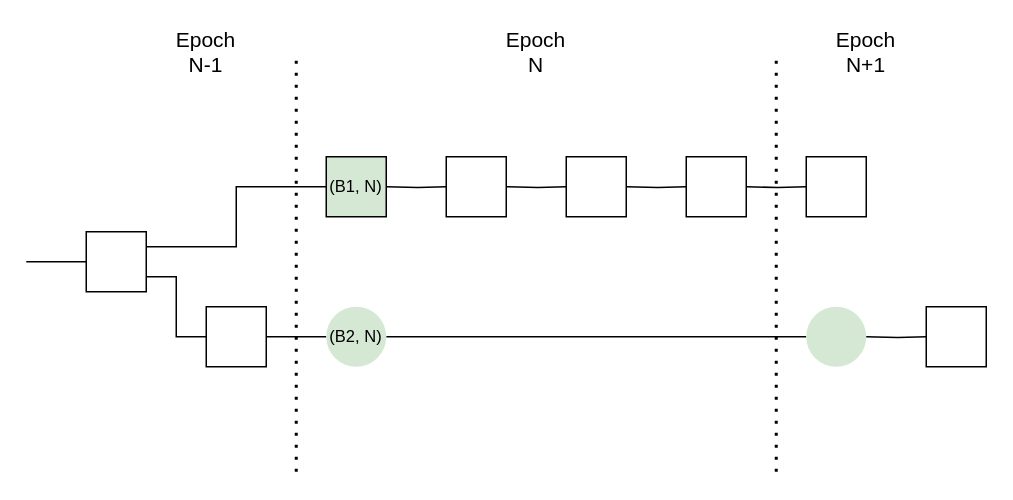
This 1013x500 diagram has some shape labels left out. Each missing label, with the box of its shape:
(B2, N+1): (806, 306, 866, 366)
B2: (205, 305, 266, 367)
